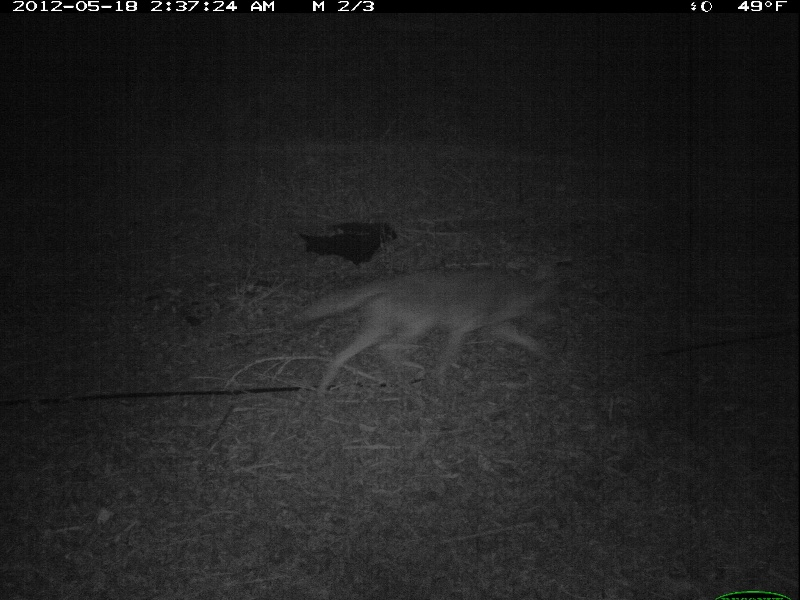coyote: (297, 261, 571, 402)
